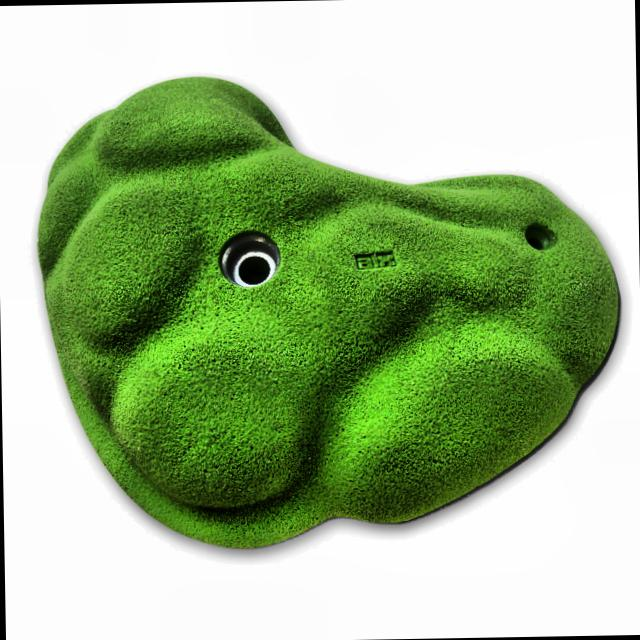Hold: (33, 68, 625, 560)
